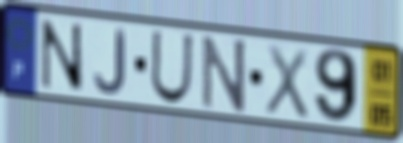9: (313, 46, 363, 128)
J: (92, 26, 127, 98)
N: (200, 33, 248, 114), (39, 17, 86, 95)
U: (148, 28, 196, 107)
X: (263, 41, 311, 122)
